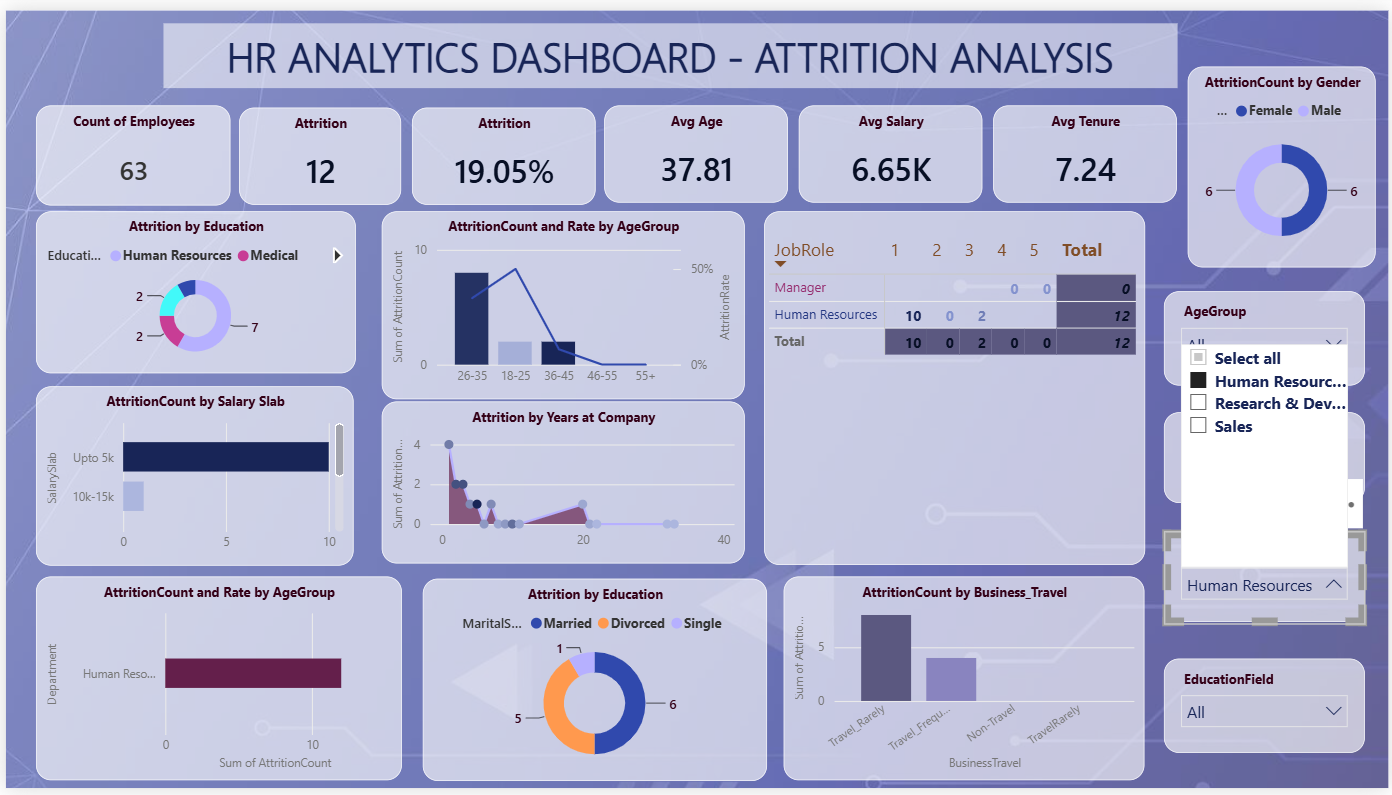

The dashboard page shown, as its layout file describes it:
{"tool":"powerbi","page":{"name":"Page 1","canvas":[1280,720],"ordinal":0},"visuals":[{"type":"textbox","box":[145.7,12.9,938.6,60],"z":0},{"type":"cardVisual","title":"Count of Employees","fields":{"Data":["Count(HR_Analytics.EmpID)"]},"box":[27.1,87.1,180,92.9],"z":1000},{"type":"cardVisual","title":"Attrition","fields":{"Data":["Sum(HR_Analytics.AttritionCount)"]},"box":[215.7,90,150,90],"z":2000},{"type":"cardVisual","title":"Attrition","fields":{"Data":["HR_Analytics.AttritionRate"]},"box":[375.7,90,170,90],"z":3000},{"type":"cardVisual","title":"Avg Age","fields":{"Data":["Avg(HR_Analytics.Age)"]},"box":[554.3,88.6,170,90],"z":4000},{"type":"cardVisual","title":"Avg Salary","fields":{"Data":["Avg(HR_Analytics.MonthlyIncome)"]},"box":[734.3,87.1,170,90],"z":5000},{"type":"cardVisual","title":"Avg Tenure","fields":{"Data":["Avg(HR_Analytics.YearsAtCompany)"]},"box":[914.3,88.6,170,90],"z":6000},{"type":"donutChart","title":"AttritionCount by Gender","fields":{"Category":["HR_Analytics.Gender"],"Y":["Sum(HR_Analytics.AttritionCount)"]},"box":[1094.3,52.9,174.3,185.7],"z":7000},{"type":"donutChart","title":"Attrition by Education","fields":{"Category":["HR_Analytics.EducationField","HR_Analytics.YearsAtCompany"],"Y":["Sum(HR_Analytics.AttritionCount)"]},"box":[27.1,185.7,295.7,150],"z":8000},{"type":"lineStackedColumnComboChart","title":"AttritionCount and Rate by AgeGroup","fields":{"Category":["HR_Analytics.AgeGroup"],"Y":["Sum(HR_Analytics.AttritionCount)"],"Y2":["HR_Analytics.AttritionRate"]},"box":[347.1,185.7,335.7,174.3],"z":9000},{"type":"pivotTable","fields":{"Rows":["HR_Analytics.JobRole"],"Columns":["HR_Analytics.JobLevel"],"Values":["Sum(HR_Analytics.AttritionCount)"]},"box":[701.4,185.7,352.9,327.1],"z":10000},{"type":"barChart","title":"AttritionCount by Salary Slab","fields":{"Y":["Sum(HR_Analytics.AttritionCount)"],"Category":["HR_Analytics.SalarySlab"]},"box":[27.1,347.1,294.3,165.7],"z":11000},{"type":"areaChart","title":"Attrition by Years at Company","fields":{"Y":["Sum(HR_Analytics.AttritionCount)"],"Category":["HR_Analytics.YearsAtCompany"]},"box":[347.1,362.9,335.7,150],"z":12000},{"type":"barChart","title":"AttritionCount and Rate by AgeGroup","fields":{"Y":["Sum(HR_Analytics.AttritionCount)"],"Category":["HR_Analytics.Department"]},"box":[27.1,524.3,338.6,188.6],"z":12001},{"type":"donutChart","title":"Attrition by Education","fields":{"Y":["Sum(HR_Analytics.AttritionCount)"],"Category":["HR_Analytics.MaritalStatus"]},"box":[385.7,525.7,318.6,187.1],"z":12002},{"type":"columnChart","title":"AttritionCount by Business_Travel","fields":{"Category":["HR_Analytics.BusinessTravel"],"Y":["Sum(HR_Analytics.AttritionCount)"]},"box":[720,524.3,334.3,188.6],"z":12003},{"type":"slicer","fields":{"Values":["HR_Analytics.AgeGroup"]},"box":[1071.4,260,185.7,87.1],"z":12004},{"type":"slicer","fields":{"Values":["HR_Analytics.BusinessTravel"]},"box":[1071.4,372.9,185.7,84.3],"z":12005},{"type":"slicer","fields":{"Values":["HR_Analytics.Department"]},"box":[1071.4,482.9,185.7,84.3],"z":12006},{"type":"slicer","fields":{"Values":["HR_Analytics.EducationField"]},"box":[1071.4,600,185.7,87.1],"z":12007}]}

Visuals, with their boxes in screenshot pixels (x1, y1, x2, y2), scaled from the page's 1280x720 canvas onto the 1392x795 screenshot:
textbox: [left=158, top=14, right=1179, bottom=80]
"Count of Employees" cardVisual: [left=29, top=96, right=225, bottom=199]
"Attrition" cardVisual: [left=235, top=99, right=398, bottom=199]
"Attrition" cardVisual: [left=409, top=99, right=593, bottom=199]
"Avg Age" cardVisual: [left=603, top=98, right=788, bottom=197]
"Avg Salary" cardVisual: [left=799, top=96, right=983, bottom=196]
"Avg Tenure" cardVisual: [left=994, top=98, right=1179, bottom=197]
"AttritionCount by Gender" donutChart: [left=1190, top=58, right=1380, bottom=263]
"Attrition by Education" donutChart: [left=29, top=205, right=351, bottom=371]
"AttritionCount and Rate by AgeGroup" lineStackedColumnComboChart: [left=377, top=205, right=743, bottom=398]
pivotTable - HR_Analytics.JobRole x HR_Analytics.JobLevel: [left=763, top=205, right=1147, bottom=566]
"AttritionCount by Salary Slab" barChart: [left=29, top=383, right=350, bottom=566]
"Attrition by Years at Company" areaChart: [left=377, top=401, right=743, bottom=566]
"AttritionCount and Rate by AgeGroup" barChart: [left=29, top=579, right=398, bottom=787]
"Attrition by Education" donutChart: [left=419, top=580, right=766, bottom=787]
"AttritionCount by Business_Travel" columnChart: [left=783, top=579, right=1147, bottom=787]
slicer - HR_Analytics.AgeGroup: [left=1165, top=287, right=1367, bottom=383]
slicer - HR_Analytics.BusinessTravel: [left=1165, top=412, right=1367, bottom=505]
slicer - HR_Analytics.Department: [left=1165, top=533, right=1367, bottom=626]
slicer - HR_Analytics.EducationField: [left=1165, top=662, right=1367, bottom=759]
